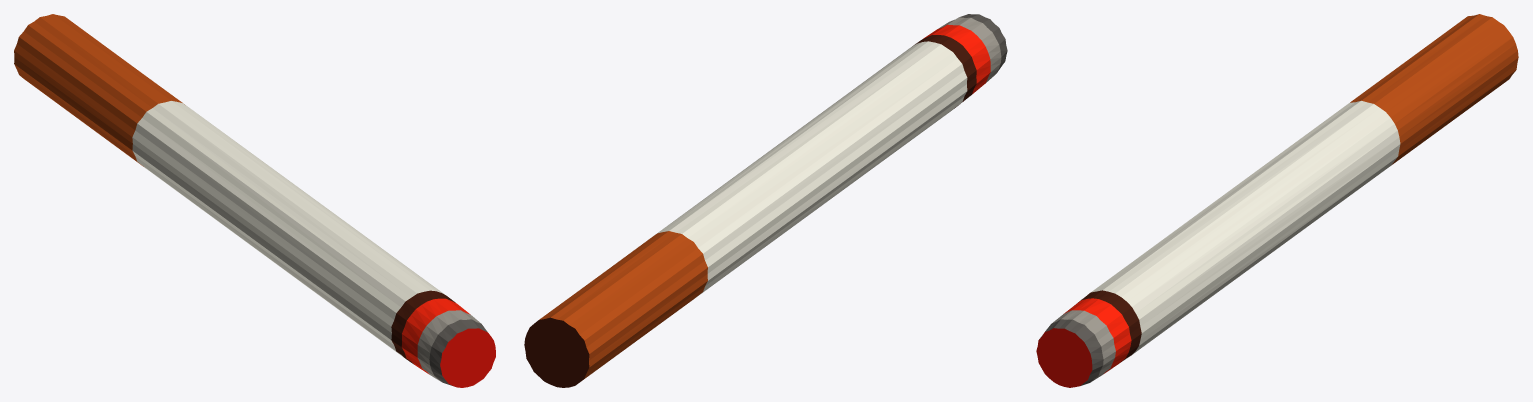
The model's file is YananSigara.obj.
3 views of the same model, side by side, from view 1: azimuth 30°, elevation 25°; view 2: azimuth 150°, elevation 25°; view 3: azimuth 330°, elevation 25° (orthographic).
Parts seen in each view (by area): view 1: YananSigara; view 2: YananSigara; view 3: YananSigara.
Part boxes in pixels (x1=…): YananSigara: x1=14, y1=14, x2=495, y2=387; YananSigara: x1=524, y1=14, x2=1007, y2=387; YananSigara: x1=1036, y1=14, x2=1518, y2=387.
Bounding box in the file's own units: 0.00764 × 0.0076 × 0.0855.
